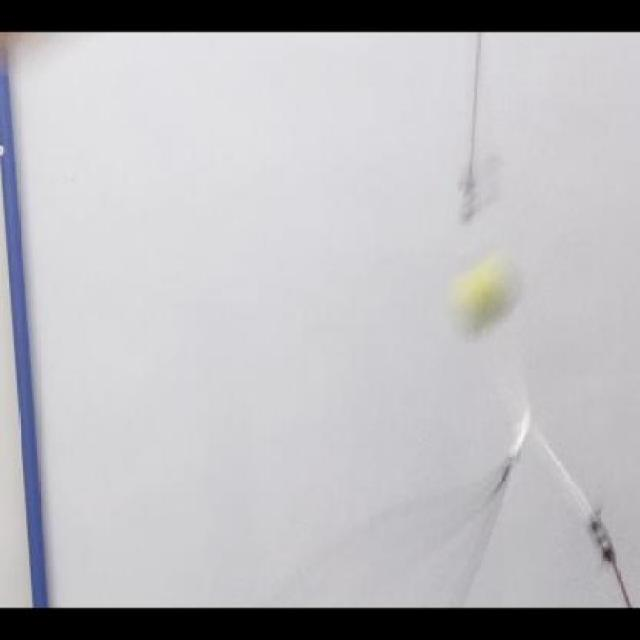baseball: (448, 244, 517, 338)
